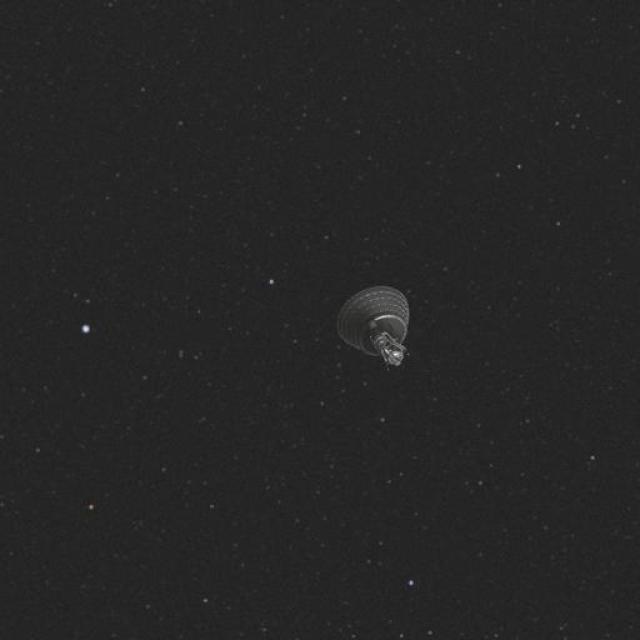debris: (320, 266, 424, 383)
